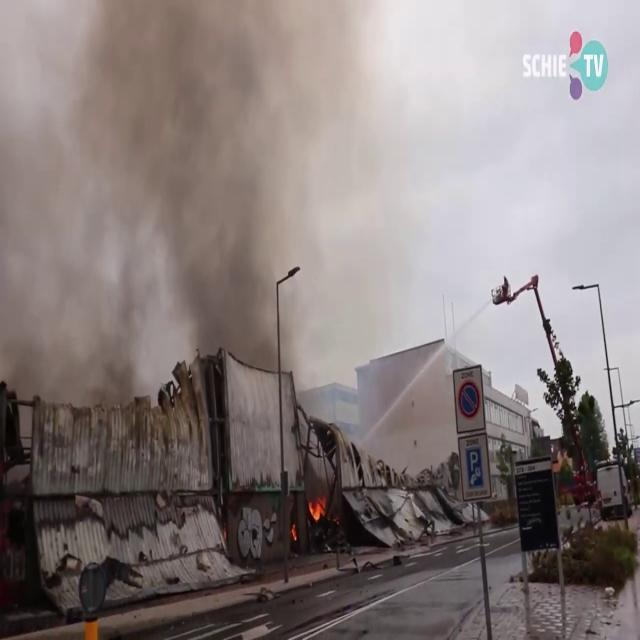Fire: (304, 489, 330, 534)
Smoke: (10, 4, 355, 450)
